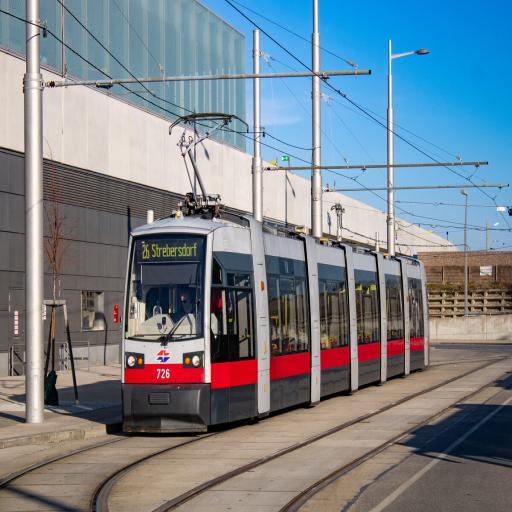ULF: (120, 217, 430, 432)
